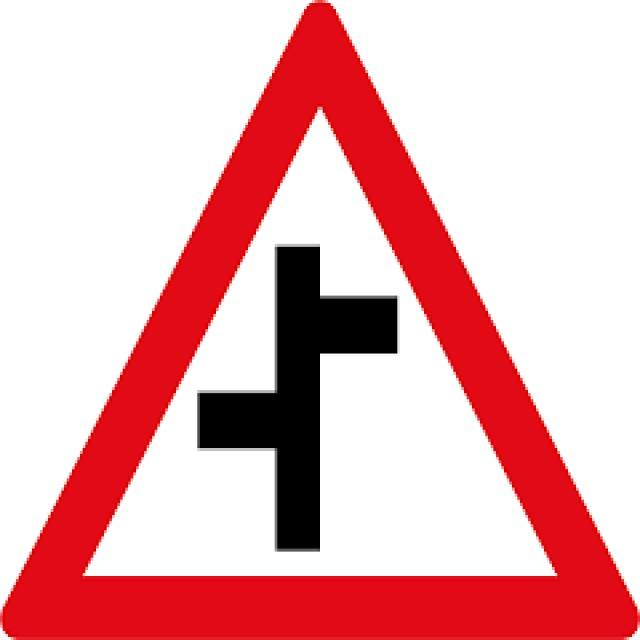staggered intersection: (18, 15, 628, 626)
